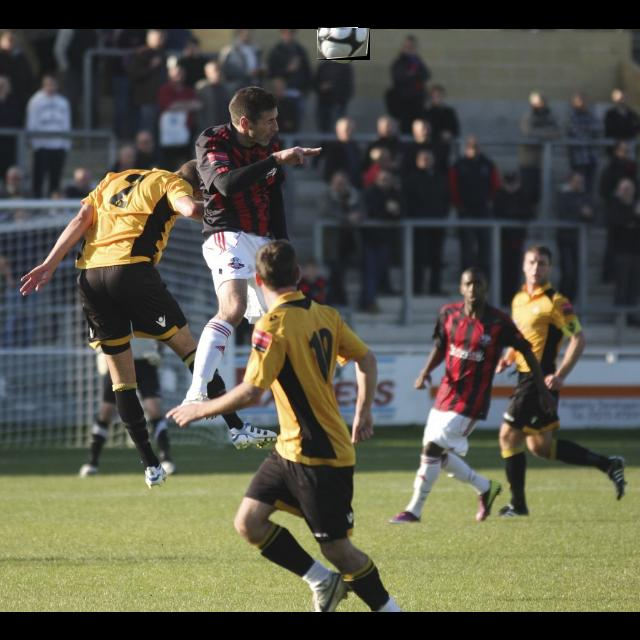Football: (318, 28, 370, 60)
